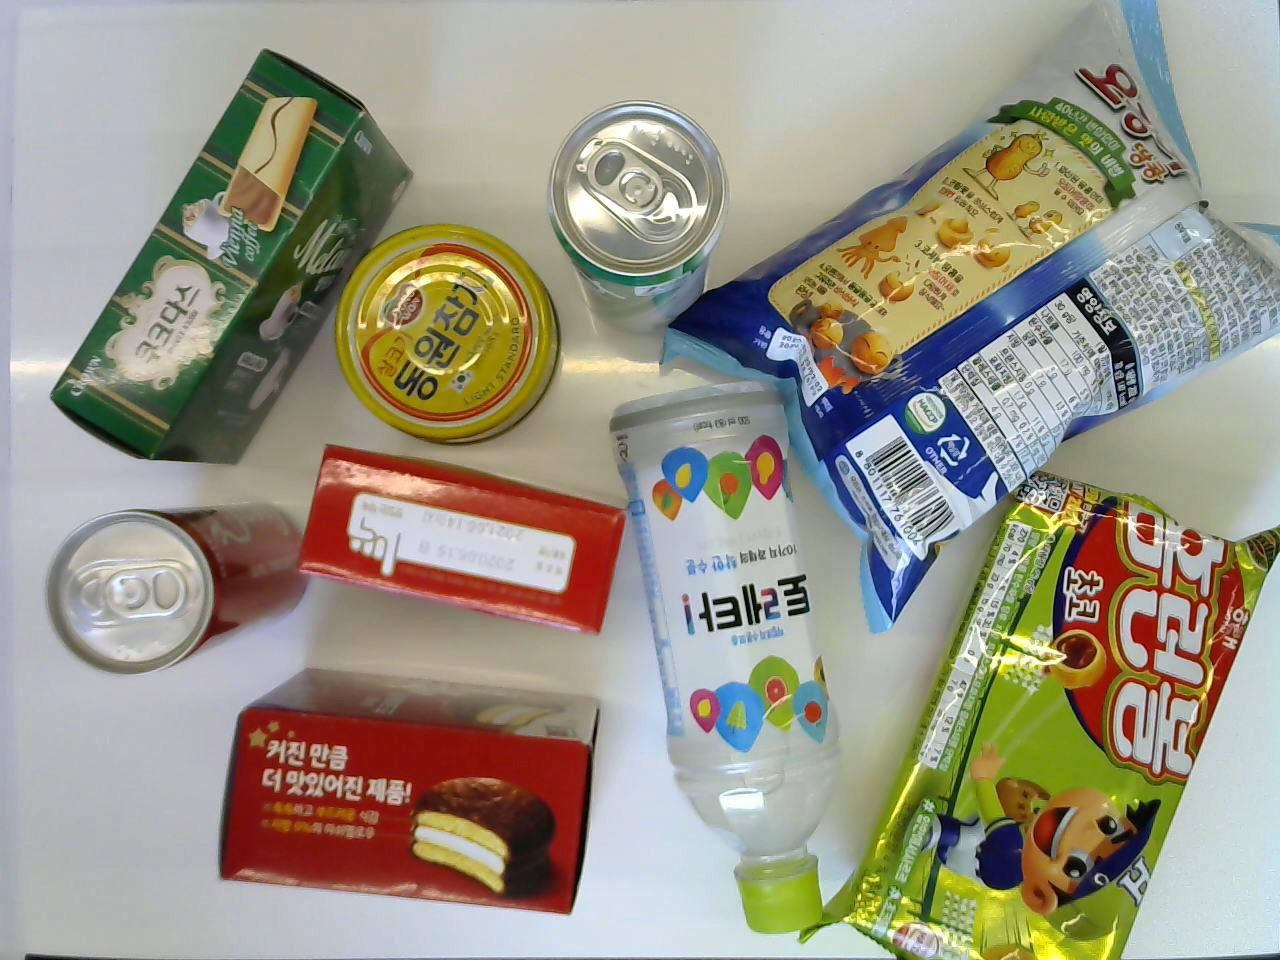chocopie: (213, 661, 602, 923)
cidar: (545, 95, 733, 347)
coke: (46, 489, 311, 681)
couque_coffee: (47, 43, 415, 469)
couque_white: (300, 439, 628, 642)
homerunball: (797, 455, 1280, 957)
squid_peanut: (656, 0, 1280, 637)
toreta: (603, 375, 850, 934)
tuna: (333, 215, 560, 445)
